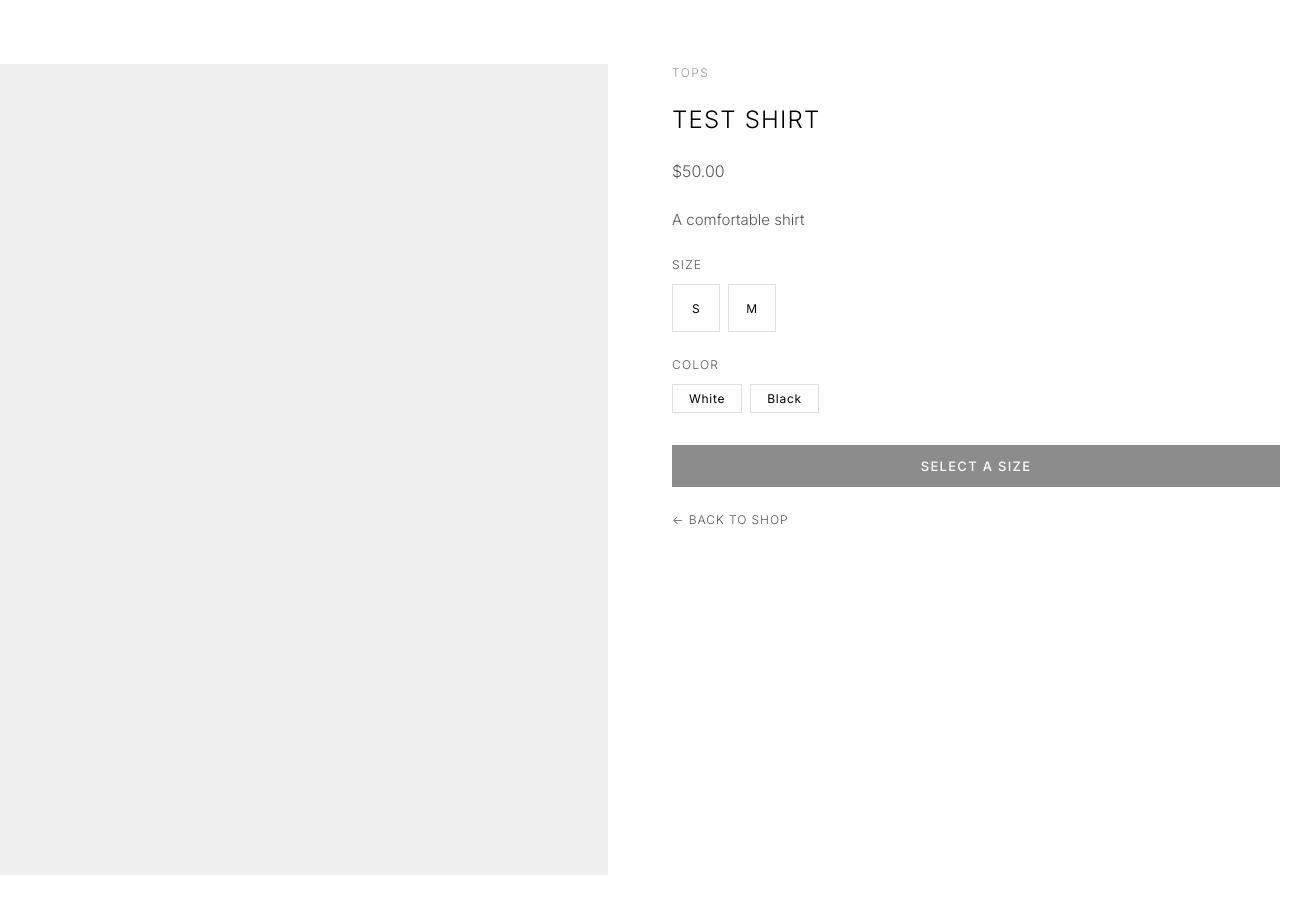
Scenario: ProductDetail — add-to-cart button label › shows "Add to Cart" when an available variant is selected
Expected: the heading "Test Shirt" is shown, [672,105,820,134]
Click the button named "size s" at (696, 308), box [672,284,720,332]
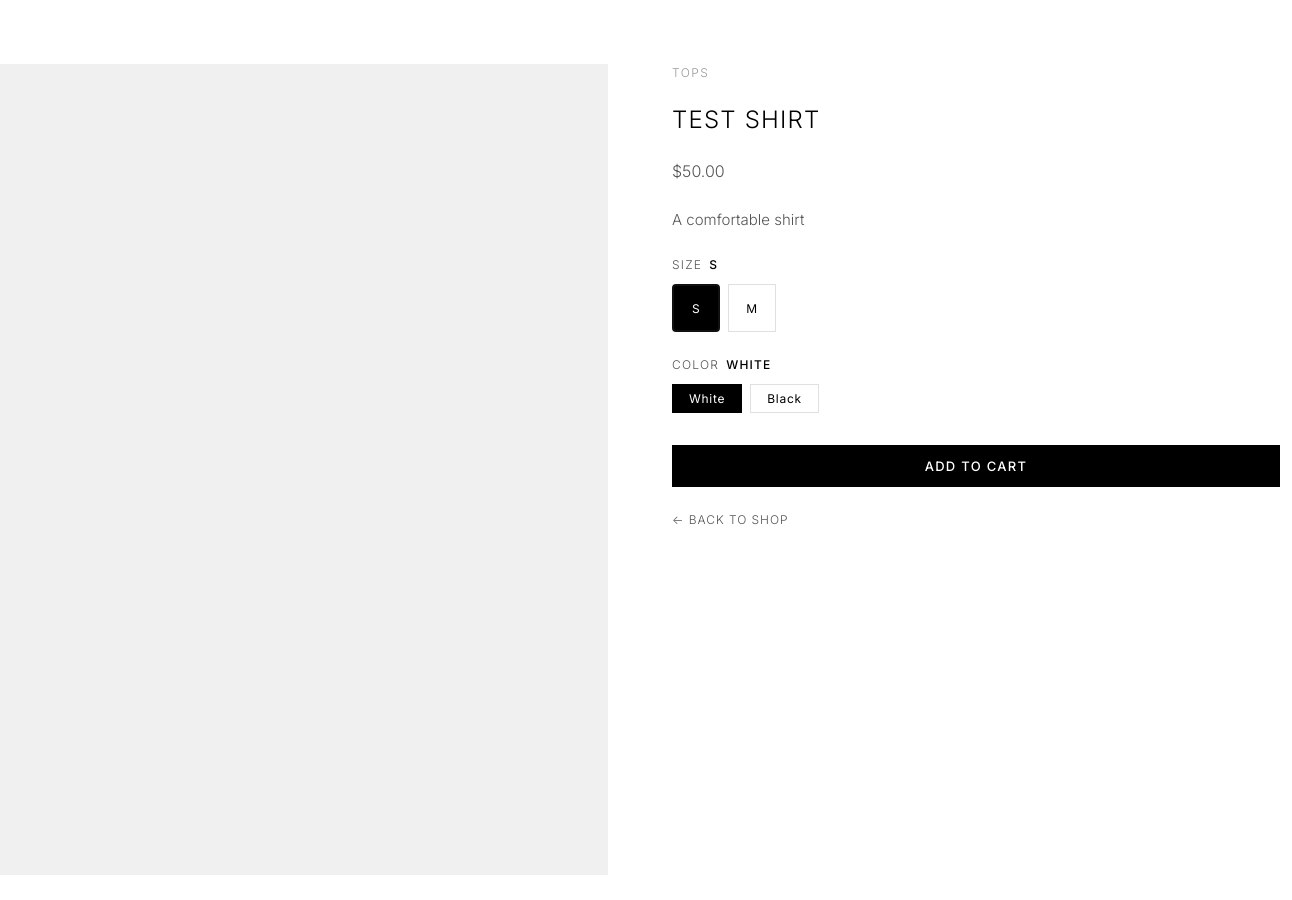
Now the button "Add to Cart" is shown, box [672,445,1280,487]
